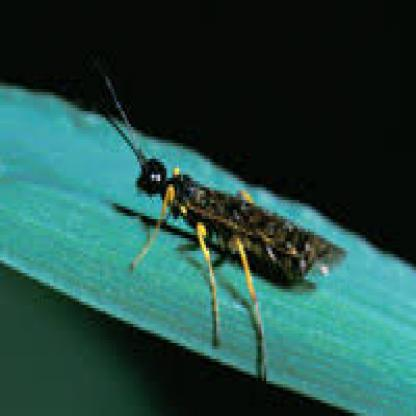sawfly: (98, 77, 344, 379)
